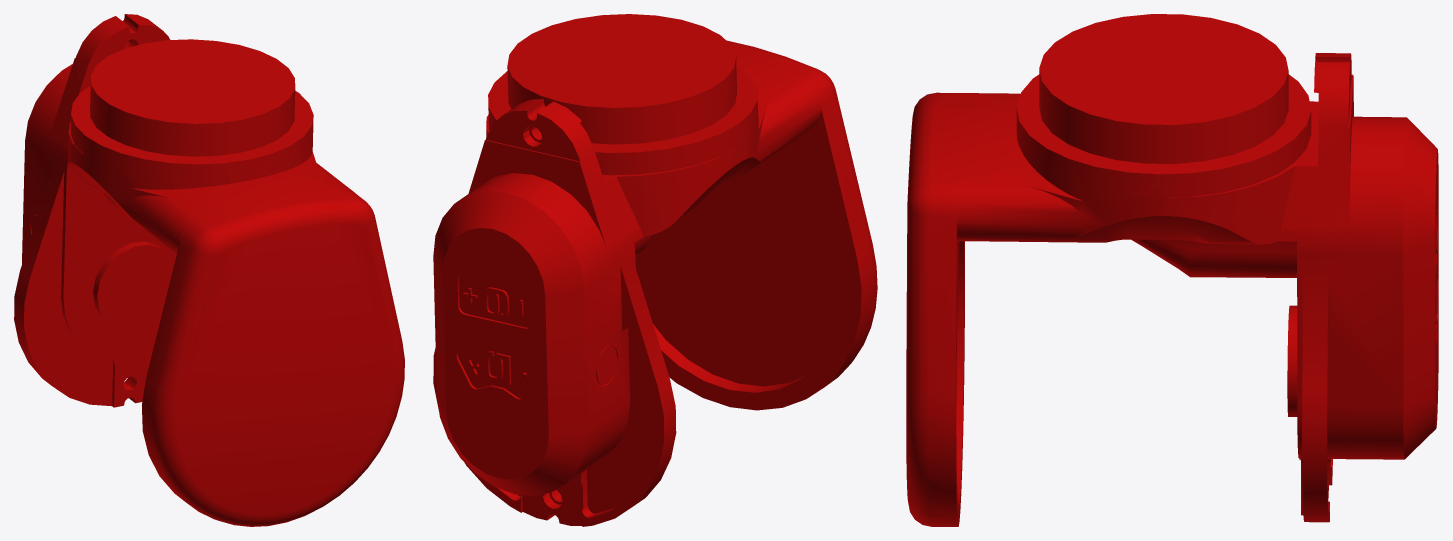
3 views of the same model, side by side, from view 1: azimuth 30°, elevation 25°; view 2: azimuth 150°, elevation 25°; view 3: azimuth 270°, elevation 25° (orthographic). The views are drawn at different scales.
Visible parts, largest first — view 1: link_5; view 2: link_5; view 3: link_5.
Boxes of the visible parts, box(x1,y1,x2,y2) form: link_5: box(14, 14, 404, 526); link_5: box(433, 14, 877, 526); link_5: box(906, 14, 1438, 526).
Size of the model in its own units: 0.2223 by 0.325 by 0.3415.
